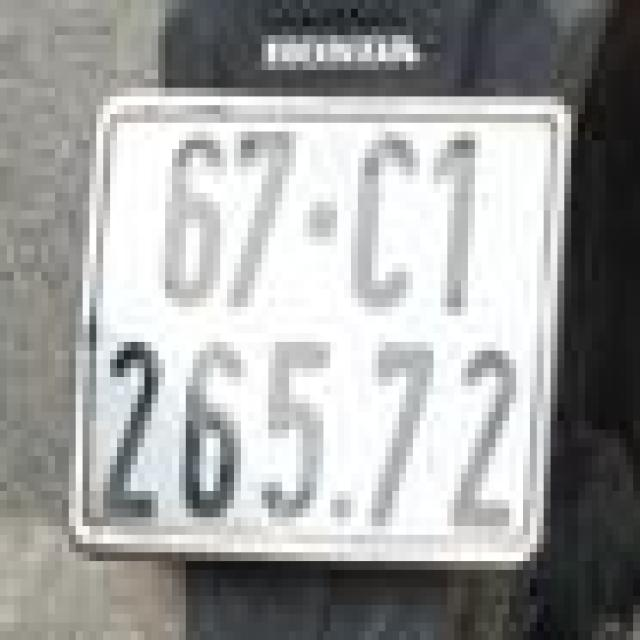1: (434, 123, 482, 333)
2: (93, 316, 169, 544), (451, 329, 526, 548)
5: (251, 320, 334, 530)
6: (148, 118, 230, 320), (176, 316, 251, 526)
7: (361, 320, 444, 539), (227, 118, 303, 320)
C: (337, 118, 420, 320)
